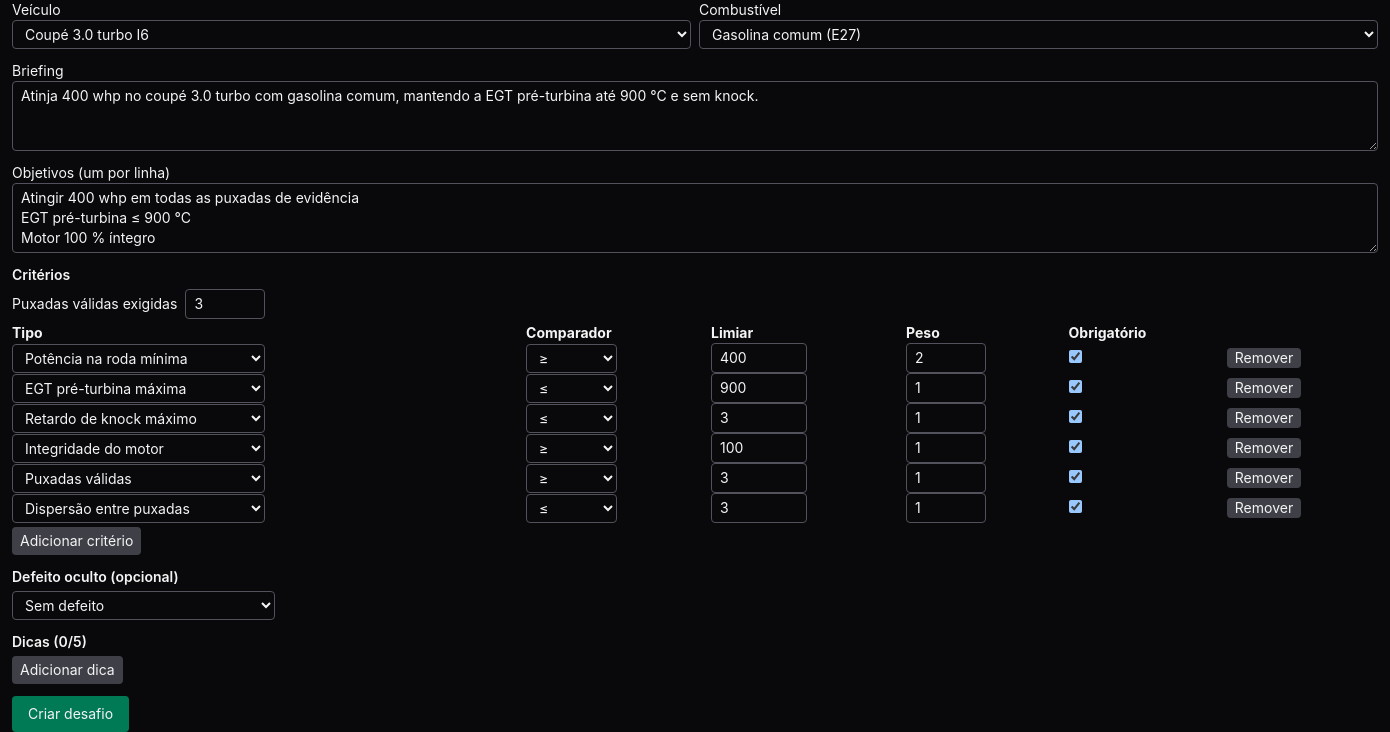
Test: ChallengeForm › mostra o erro do servidor ao criar
(page scrolled)
Step 1. Click the button "Criar desafio" → (70,714), box [12,696,129,731]
(page scrolled)
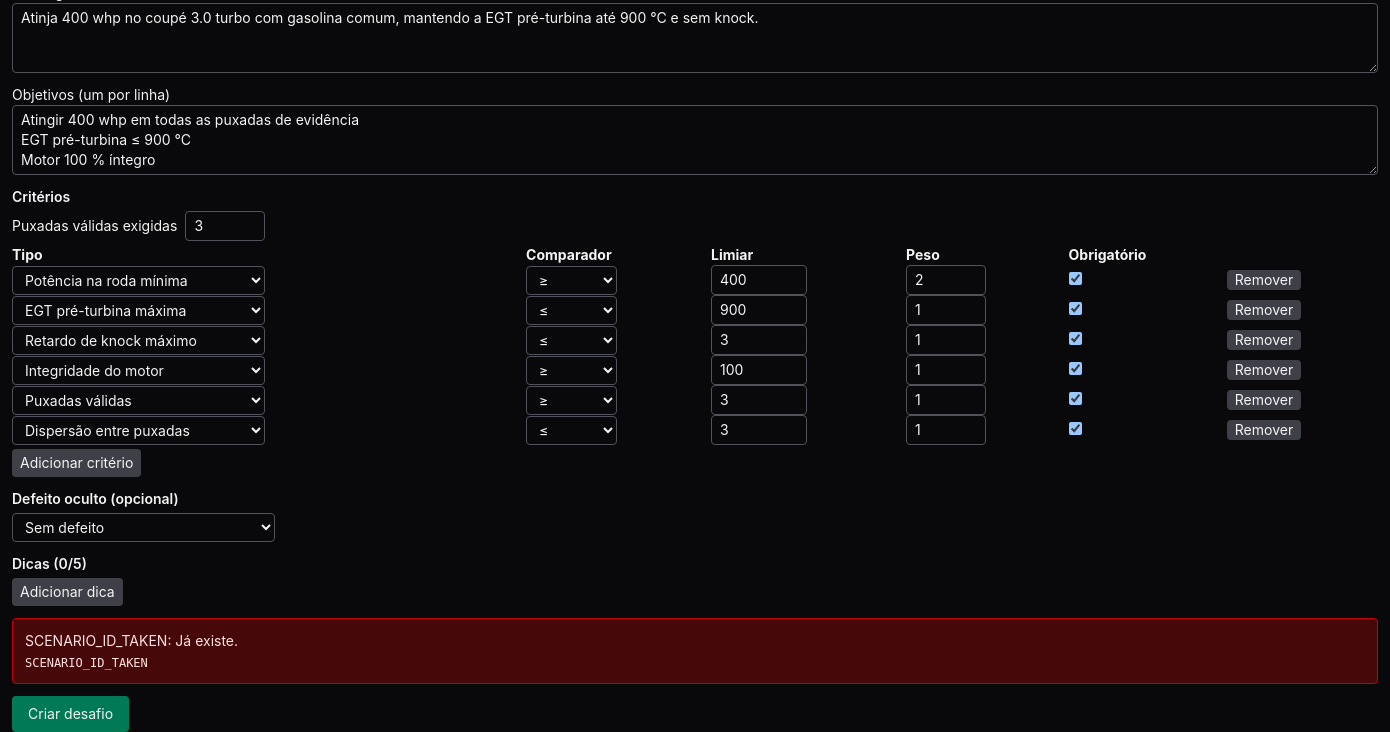
Now the message shows "SCENARIO_ID_TAKEN", box [25,656,148,670]
